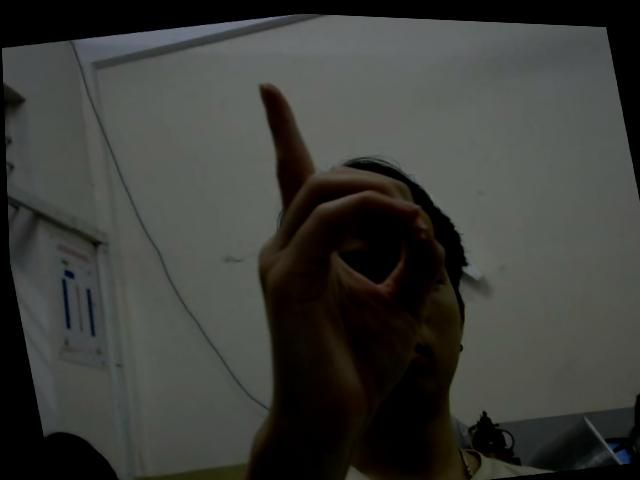D: (216, 54, 474, 437)
